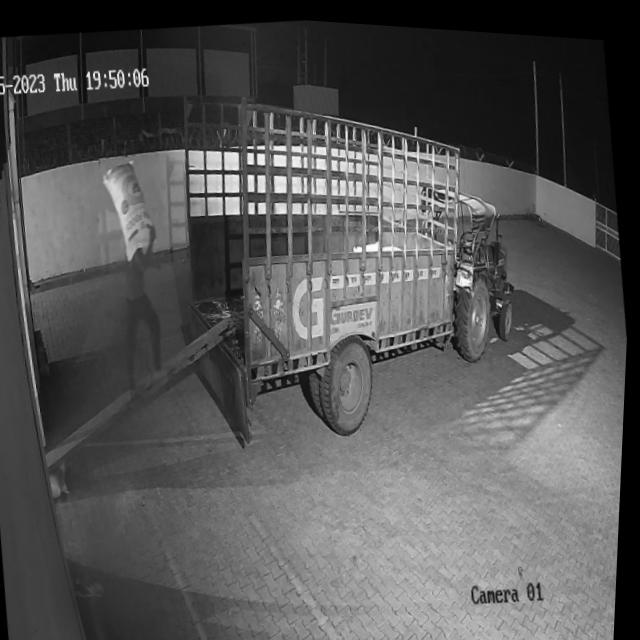sack: (100, 155, 158, 262)
